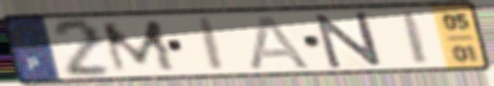2: (50, 17, 119, 81)
A: (248, 13, 315, 71)
I: (195, 15, 229, 73), (399, 9, 433, 67)
M: (98, 18, 181, 76)
N: (311, 10, 386, 71)
